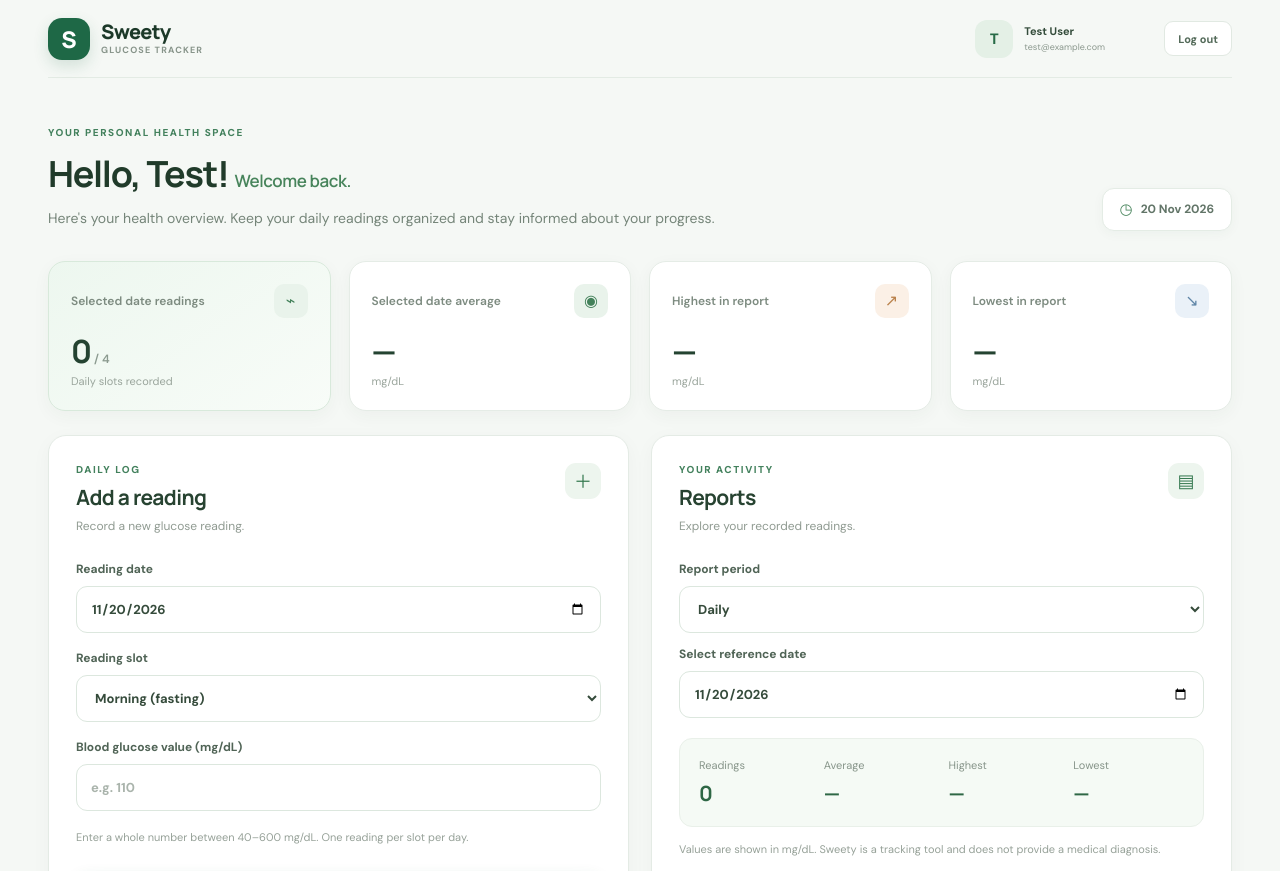
Sweety reading form › submits a valid glucose reading successfully
In the number field labelled "Blood glucose value (mg/dL)": (338, 788) x1=76 y1=764 x2=601 y2=811, type "110"
(page scrolled)
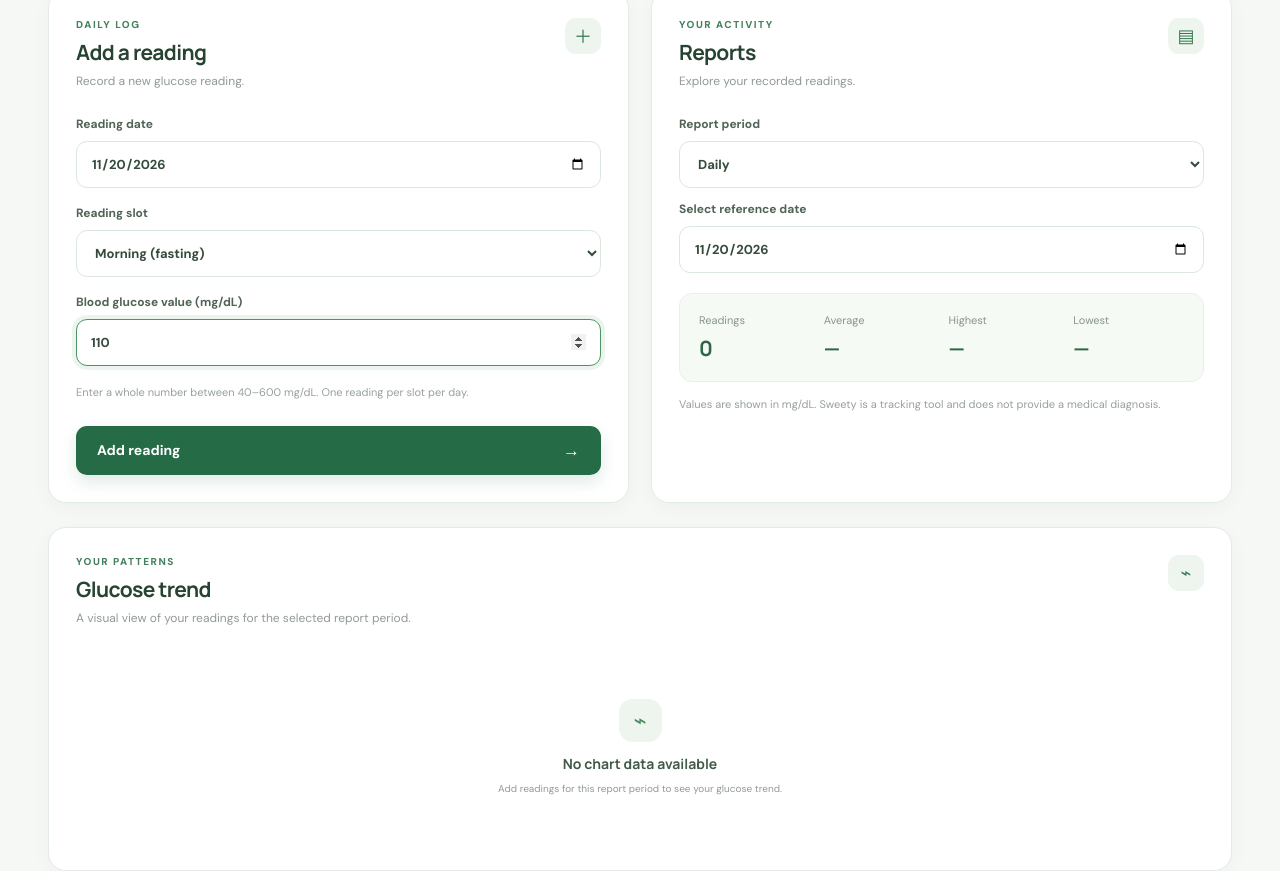
Click the button "Add reading →": (139, 450) x1=76 y1=426 x2=601 y2=475
(page scrolled)
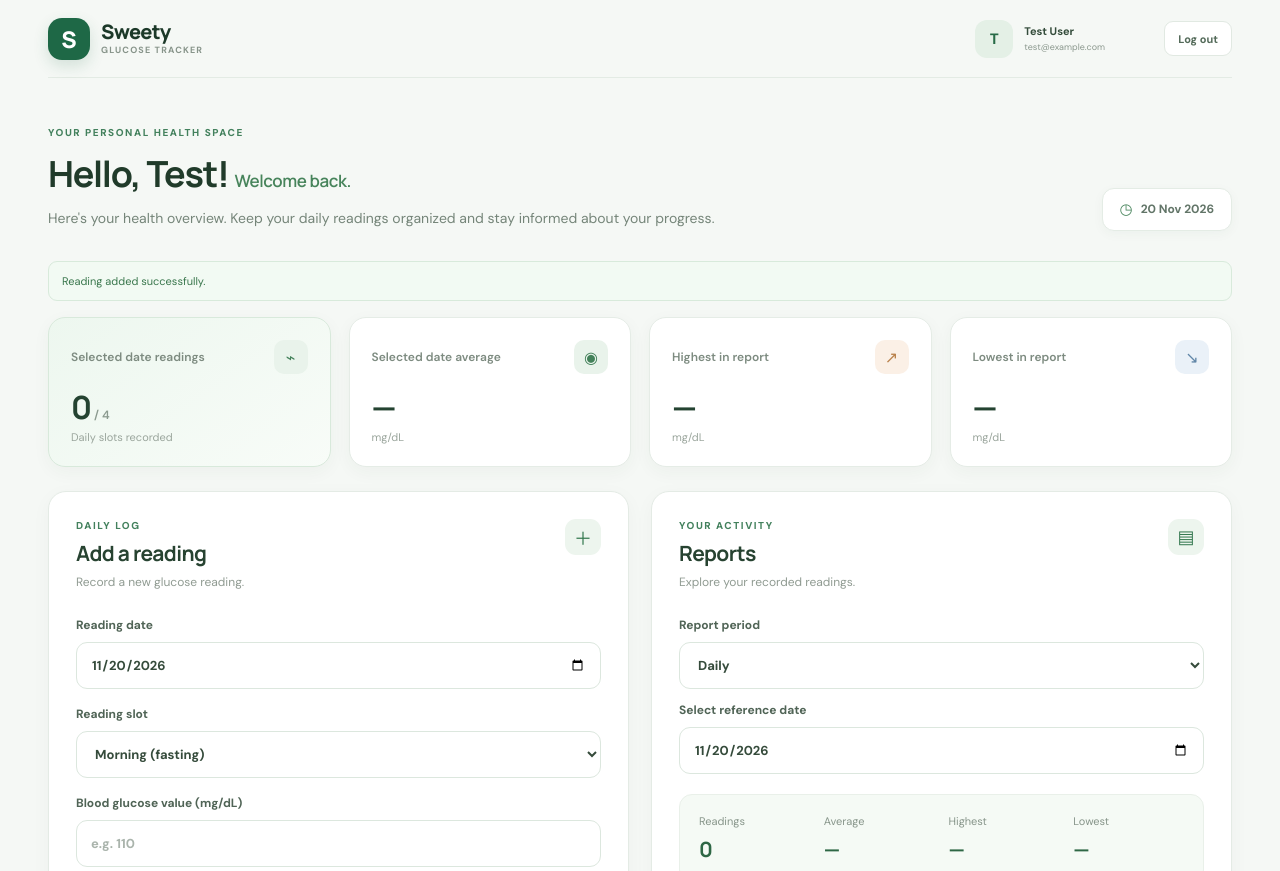
Expected: the message reads "Reading added successfully.", x1=62 y1=274 x2=205 y2=288
